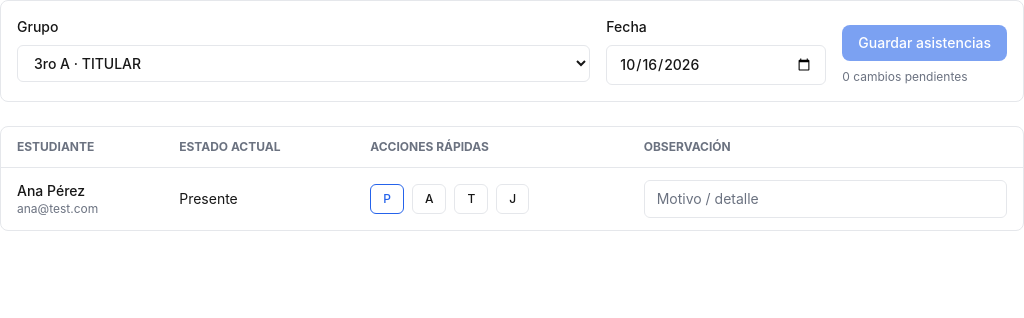
Test: AsistenciaRapidaSection › debería exigir observación cuando se edita una asistencia existente del mismo día
The image size is (1024, 318).
Check: the text "Ana Pérez" is shown, box [17,182,85,199]
# make fecha deterministic so the component treats the edit as same-day
Step 1. Type "2026-03-29" into the date field labelled "Fecha" → [716, 65], box [606,45,826,85]
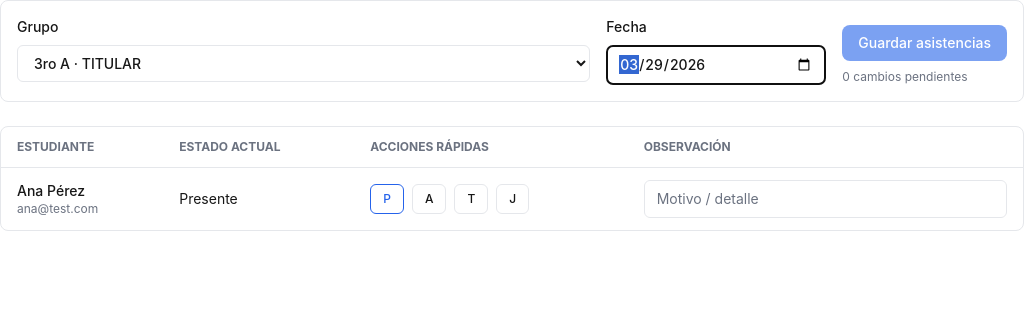
Step 2. Click the button named "ausente-ana" → [429, 199], box [412,184,446,214]
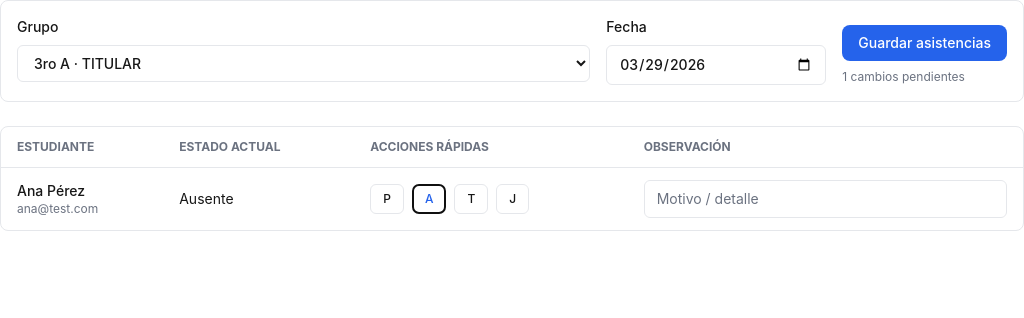
Step 3. Click the button "Guardar asistencias" → [925, 43], box [842,25,1007,61]
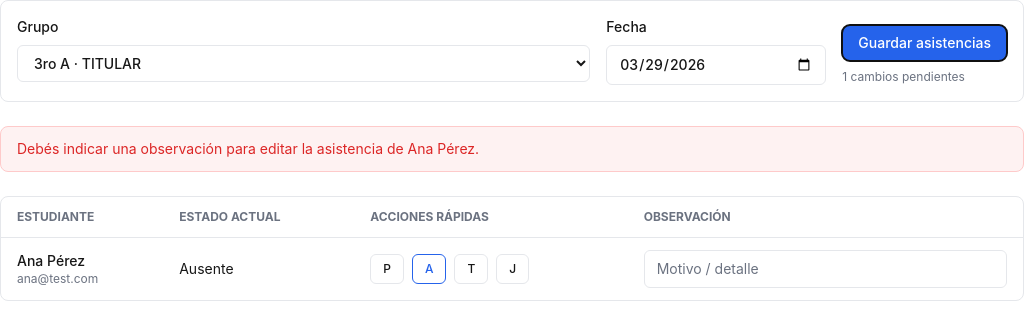
Check: the text "Debés indicar una observación" is shown, box [17,140,479,157]
